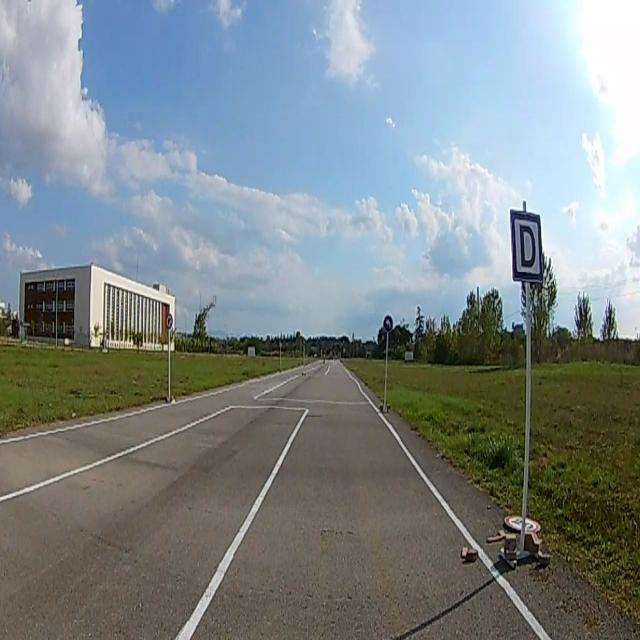durak: (510, 210, 544, 282)
sol: (383, 316, 392, 332)
